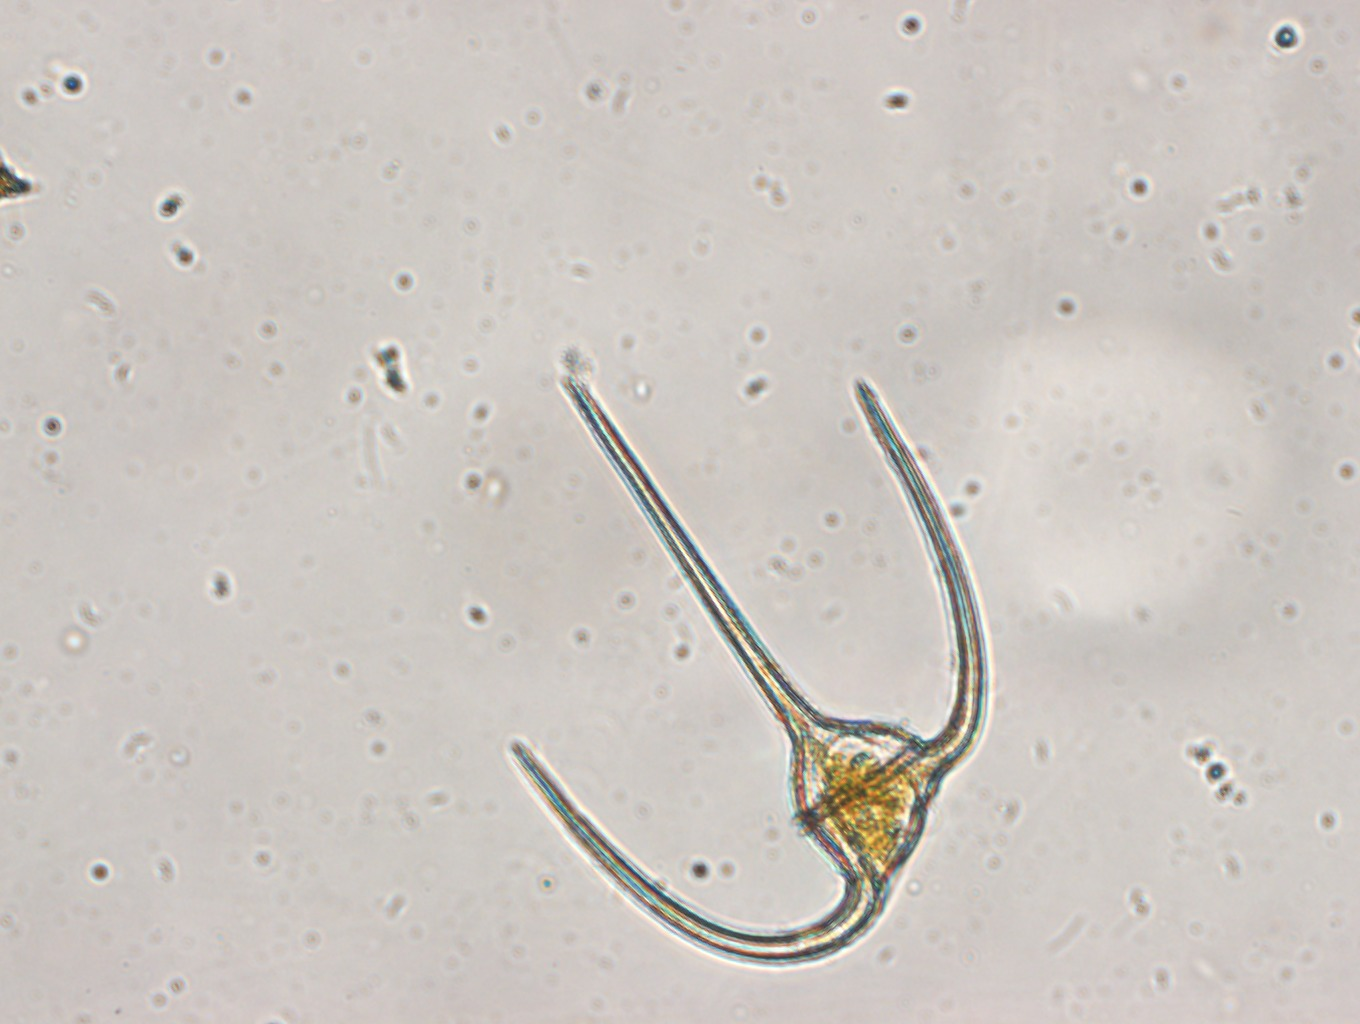ceratium trichoceros: (499, 367, 1000, 968)
